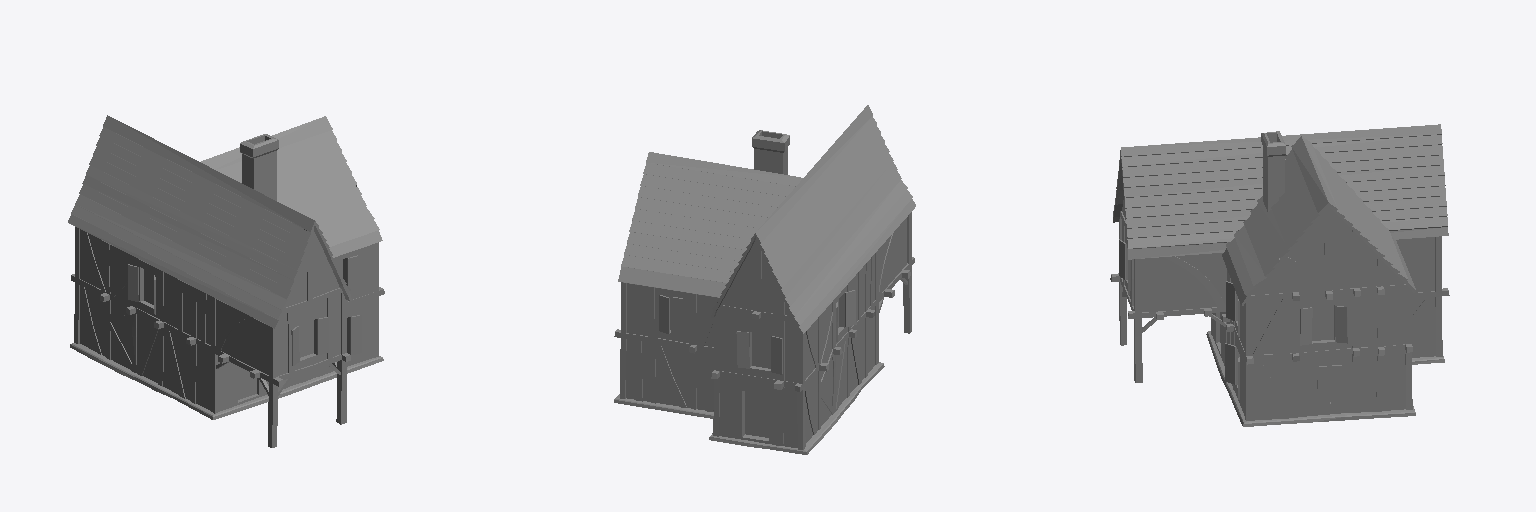
File: house3.obj
The picture shows the model from 3 angles: view 1: azimuth 30°, elevation 25°; view 2: azimuth 150°, elevation 25°; view 3: azimuth 270°, elevation 25°; orthographic projection.
Parts seen in each view (by area): view 1: default; view 2: default; view 3: default.
Part boxes in pixels (x1,y1,x2,y2): default: (68,115,384,447); default: (614,105,915,454); default: (1110,124,1449,426).
Size of the model in its own units: 300 by 302 by 392.